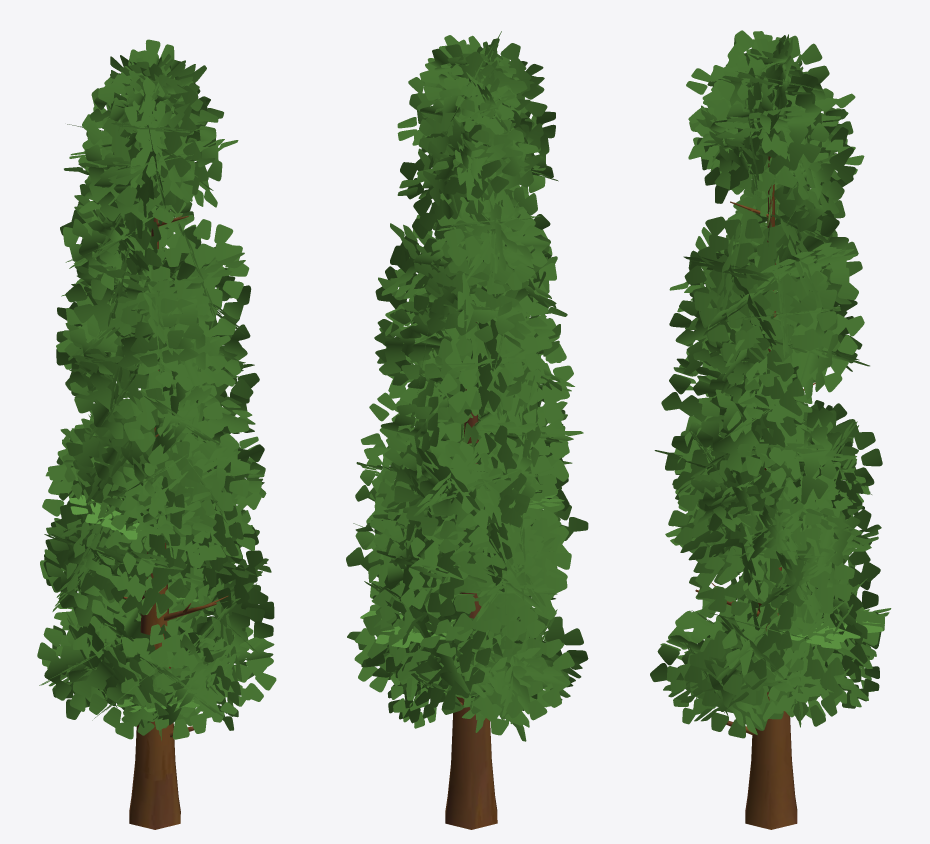
Rendered from STColumnar1.glb.
The picture shows the model from 3 angles, left to right: view 1: azimuth 30°, elevation 25°; view 2: azimuth 150°, elevation 25°; view 3: azimuth 270°, elevation 25°; orthographic projection.
Visible parts, largest first — view 1: STColumnar1_Leaves, STColumnar1_Trunk; view 2: STColumnar1_Leaves, STColumnar1_Trunk; view 3: STColumnar1_Leaves, STColumnar1_Trunk.
Boxes of the visible parts, left/top/right/bottom form: STColumnar1_Leaves: left=37, top=39, right=276, bottom=740; STColumnar1_Trunk: left=123, top=215, right=228, bottom=829; STColumnar1_Leaves: left=346, top=31, right=588, bottom=741; STColumnar1_Trunk: left=445, top=322, right=497, bottom=829; STColumnar1_Leaves: left=650, top=30, right=891, bottom=738; STColumnar1_Trunk: left=695, top=156, right=815, bottom=829.
Bounding box in the file's own units: 3.95 × 12.44 × 3.91.
Materials: 2 (2 with a texture image).
